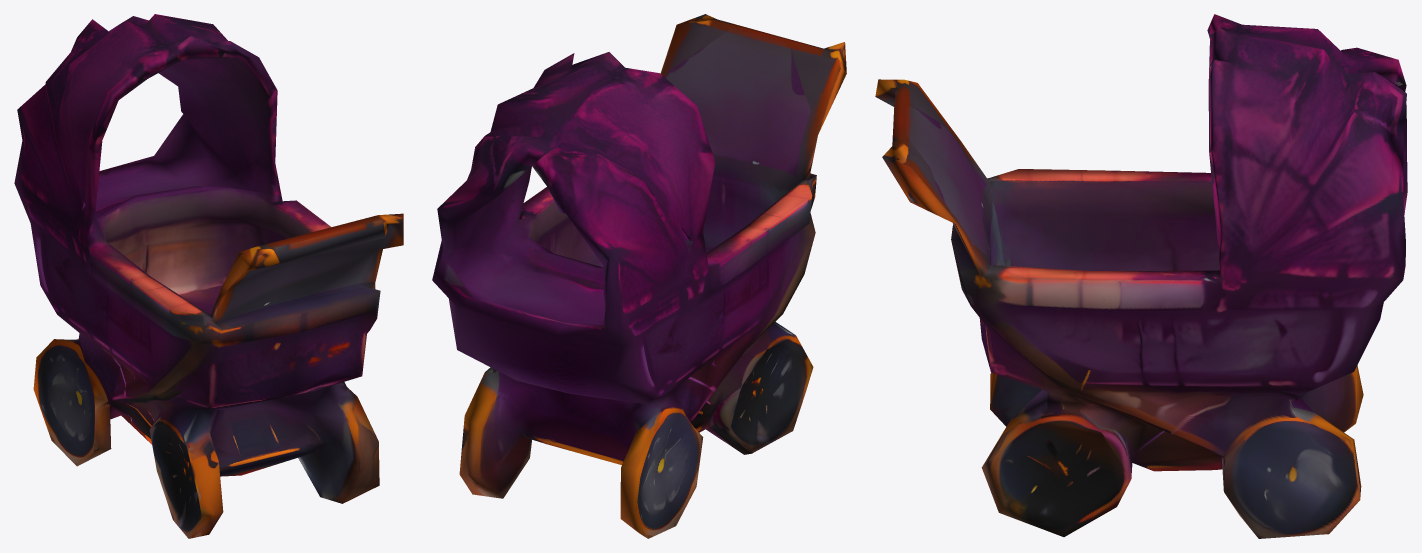
The model's file is purple+baby+stroller+3d+model.obj.
The picture shows the model from 3 angles, left to right: view 1: azimuth 30°, elevation 25°; view 2: azimuth 150°, elevation 25°; view 3: azimuth 270°, elevation 25°; orthographic projection. The views are drawn at different scales.
Parts seen in each view (by area): view 1: tripo_node_cd2fbf9b-91a8-41ae-84c9-b06f3882e236; view 2: tripo_node_cd2fbf9b-91a8-41ae-84c9-b06f3882e236; view 3: tripo_node_cd2fbf9b-91a8-41ae-84c9-b06f3882e236.
Boxes of the visible parts, left/top/right/bottom form: tripo_node_cd2fbf9b-91a8-41ae-84c9-b06f3882e236: left=14, top=14, right=403, bottom=538; tripo_node_cd2fbf9b-91a8-41ae-84c9-b06f3882e236: left=432, top=14, right=846, bottom=538; tripo_node_cd2fbf9b-91a8-41ae-84c9-b06f3882e236: left=875, top=14, right=1407, bottom=538.
Bounding box in the file's own units: 0.4931 × 0.9821 × 1.
Materials: 1 (1 with a texture image).
